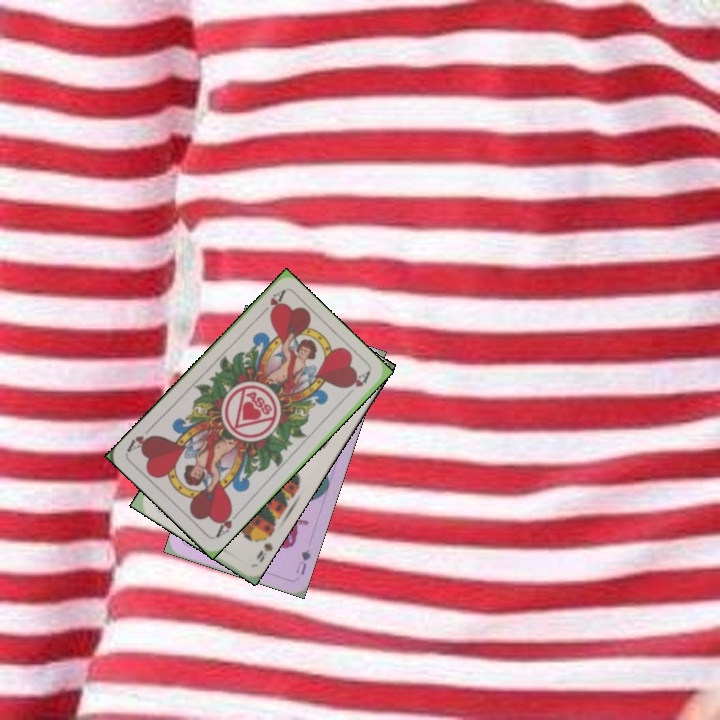GU: (291, 545, 314, 578)
HA: (211, 505, 243, 540), (255, 287, 287, 320)
S9: (252, 527, 275, 565)
